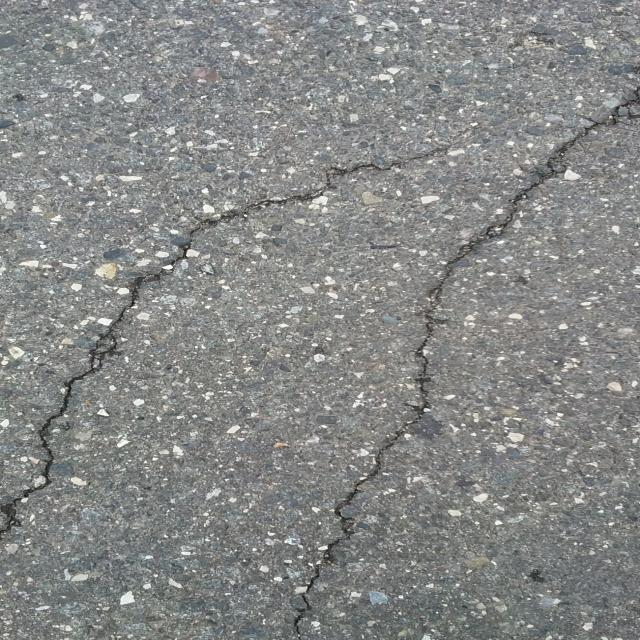Crack: (298, 64, 640, 608), (0, 148, 444, 550)
